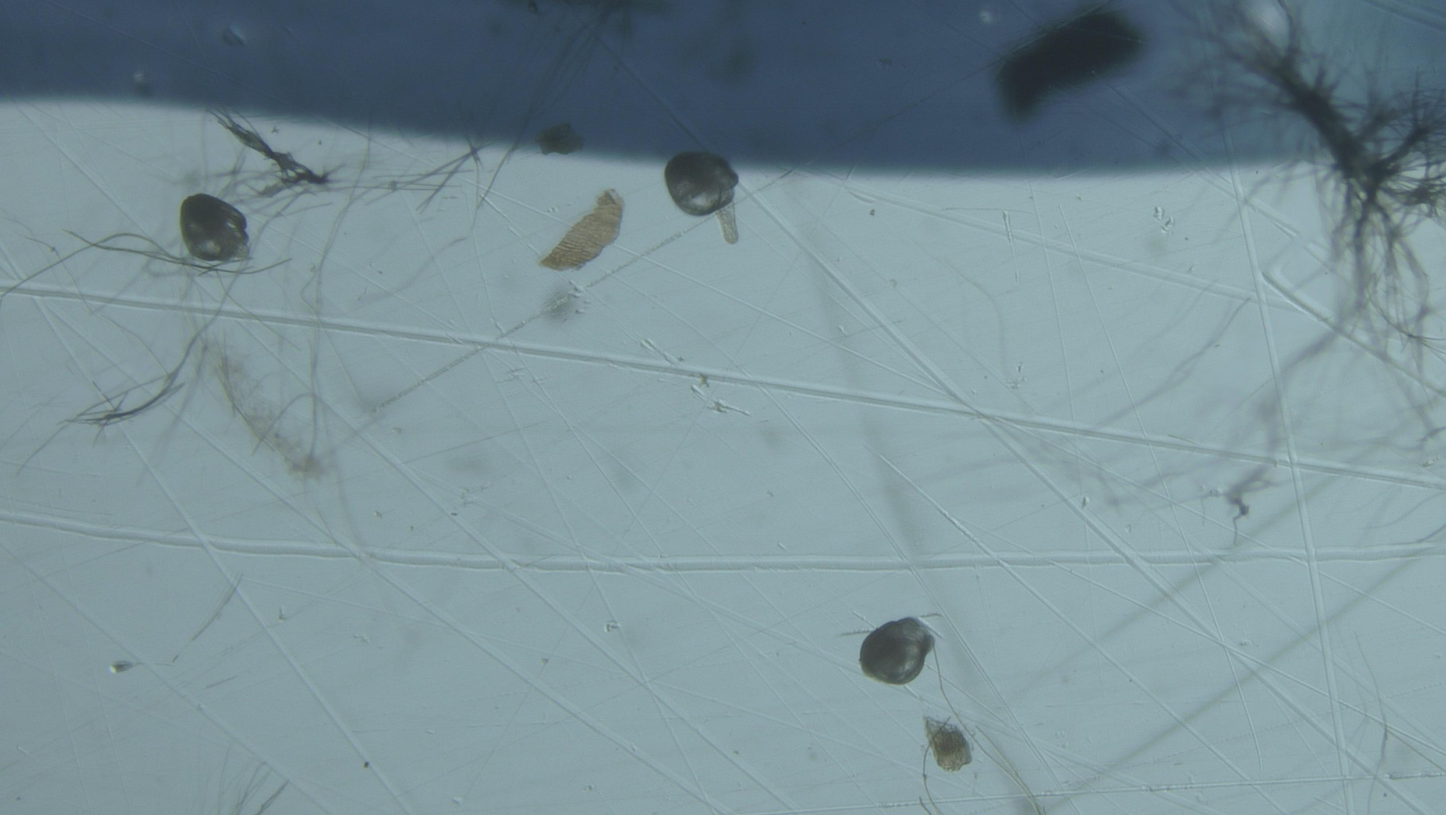live: (859, 618, 936, 687), (664, 152, 739, 217), (180, 194, 249, 263)
